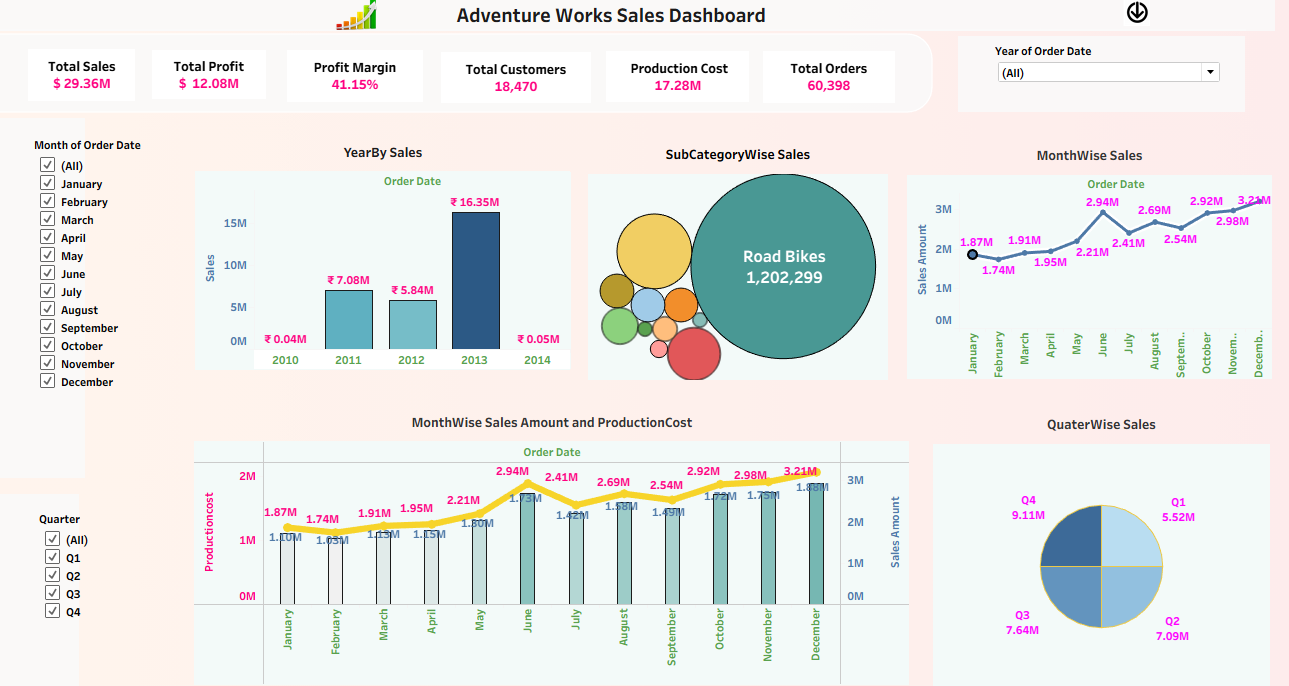

The dashboard page shown, as its layout file describes it:
{"tool":"tableau","page":{"name":"Dashboard 1","canvas":[1300,800],"ordinal":0},"visuals":[{"type":"worksheet","title":"Sales by country","mark":"Automatic","box":[8,8,1284,784]},{"type":"worksheet","title":"Sheet 16","mark":"Automatic","box":[6,13,1298,776]},{"type":"image","param":"Image/Bar-Chart-Vector-PNG-Image-File.png","box":[341,34,110,33]},{"type":"dashboard-object","box":[1079,34,126,29]},{"type":"text","box":[460,35,382,32]},{"type":"filter","title":"Yearbysales","param":"[federated.0lx9ycn1kk86e81fmzm211hm3v7e].[yr:OrderDate:ok]","box":[1001,80,228,64]},{"type":"worksheet","title":"Total Sales","mark":"Automatic","box":[34,86,107,52]},{"type":"worksheet","title":"Total Profit","mark":"Automatic","box":[158,87,114,49]},{"type":"worksheet","title":"Profit Margin","mark":"Automatic","box":[293,87,136,52]},{"type":"worksheet","title":"Total Production Cost","mark":"Automatic","box":[612,88,143,51]},{"type":"worksheet","title":"Total Orders","mark":"Automatic","box":[769,88,132,52]},{"type":"worksheet","title":"Total Customers","mark":"Automatic","box":[447,89,150,51]},{"type":"filter","title":"monthwise sales amount and production cost","param":"[federated.0lx9ycn1kk86e81fmzm211hm3v7e].[mn:OrderDate:ok]","box":[40,174,134,334]},{"type":"worksheet","title":"Yearbysales","mark":"Bar","rows":["Calculation_1627769792391483392"],"cols":["OrderDate"],"box":[201,176,376,231]},{"type":"worksheet","title":"subcategory wise sales","mark":"Circle","box":[594,178,300,239]},{"type":"worksheet","title":"Month wise sales","mark":"Automatic","rows":["SalesAmount"],"cols":["OrderDate"],"box":[913,179,365,238]},{"type":"worksheet","title":"monthwise sales amount and production cost","mark":"Automatic","rows":["Productioncost","SalesAmount"],"cols":["OrderDate"],"box":[200,446,716,276]},{"type":"worksheet","title":"QuaterWise sales","mark":"Pie","box":[939,448,337,278]},{"type":"filter","title":"QuaterWise sales","param":"[federated.0lx9ycn1kk86e81fmzm211hm3v7e].[none:Quarter:nk]","box":[45,548,121,177]}]}

Visuals, with their boxes on the page's 1300x800 design canvas (x1, y1, x2, y2). These are canvas units, not pixel positions in the 1289x686 screenshot, which may show the page scaled, cropped or inside an application window:
"Sales by country" worksheet: x1=8, y1=8, x2=1292, y2=792
"Sheet 16" worksheet: x1=6, y1=13, x2=1304, y2=789
image: x1=341, y1=34, x2=451, y2=67
dashboard-object: x1=1079, y1=34, x2=1205, y2=63
text: x1=460, y1=35, x2=842, y2=67
"Yearbysales" filter: x1=1001, y1=80, x2=1229, y2=144
"Total Sales" worksheet: x1=34, y1=86, x2=141, y2=138
"Total Profit" worksheet: x1=158, y1=87, x2=272, y2=136
"Profit Margin" worksheet: x1=293, y1=87, x2=429, y2=139
"Total Production Cost" worksheet: x1=612, y1=88, x2=755, y2=139
"Total Orders" worksheet: x1=769, y1=88, x2=901, y2=140
"Total Customers" worksheet: x1=447, y1=89, x2=597, y2=140
"monthwise sales amount and production cost" filter: x1=40, y1=174, x2=174, y2=508
"Yearbysales" worksheet (Bar marks): x1=201, y1=176, x2=577, y2=407
"subcategory wise sales" worksheet (Circle marks): x1=594, y1=178, x2=894, y2=417
"Month wise sales" worksheet: x1=913, y1=179, x2=1278, y2=417
"monthwise sales amount and production cost" worksheet: x1=200, y1=446, x2=916, y2=722
"QuaterWise sales" worksheet (Pie marks): x1=939, y1=448, x2=1276, y2=726
"QuaterWise sales" filter: x1=45, y1=548, x2=166, y2=725
